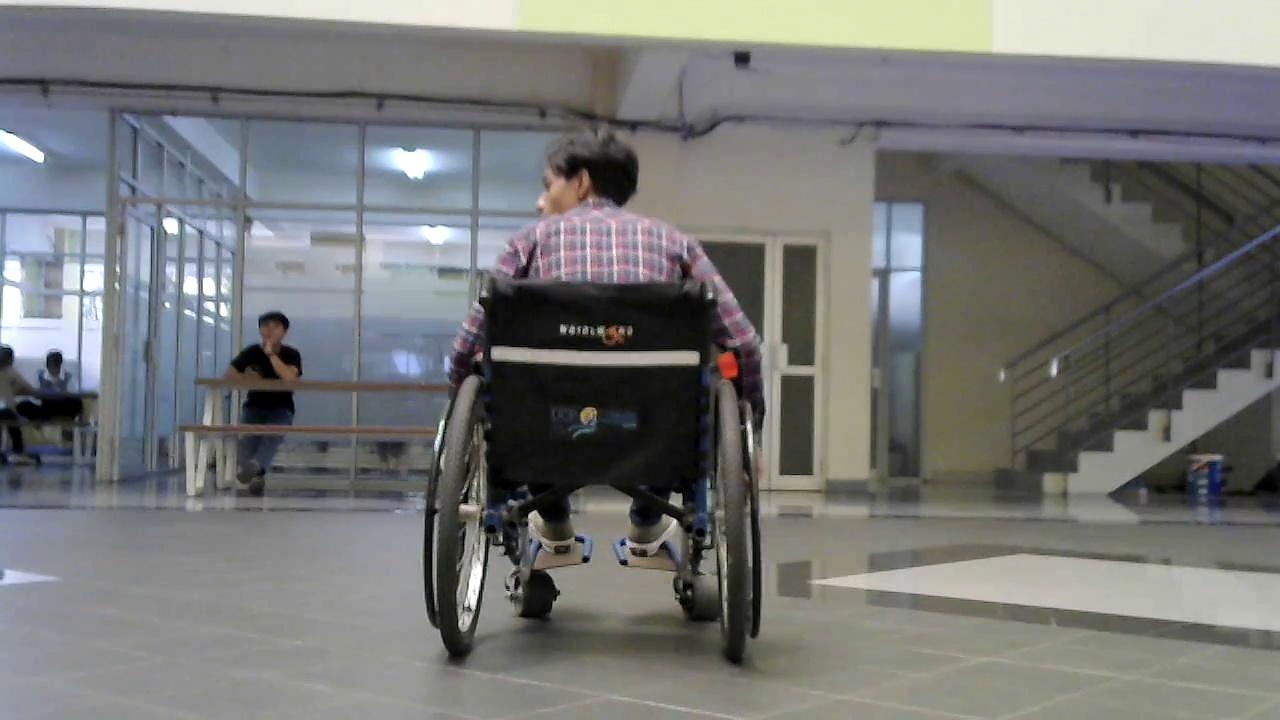person: (490, 130, 765, 428), (226, 310, 303, 498), (0, 345, 40, 466)
wheelchair: (401, 261, 789, 681)
